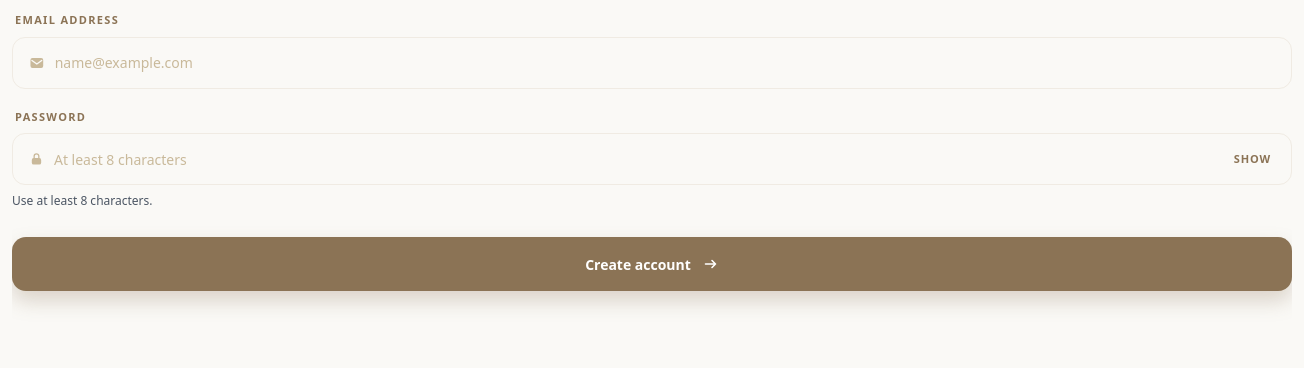
Test case: SignupForm › asks the user to confirm their email when no session is returned
Type "ada@example.com" into the field labelled "EMAIL ADDRESS".
click(665, 62); type("ada@example.com")  # box [55, 38, 1275, 88]
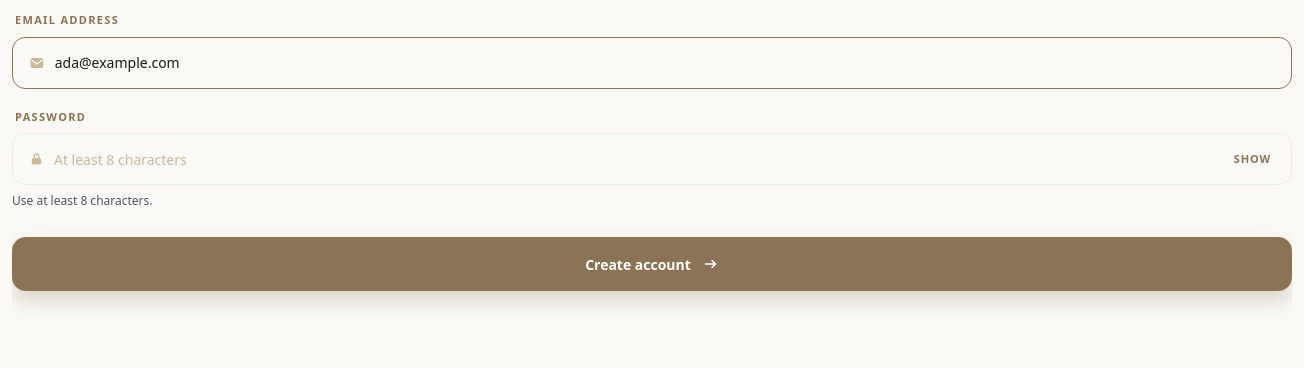
Type "password123" into the password field labelled "PASSWORD".
click(637, 159); type("password123")  # box [54, 134, 1220, 184]
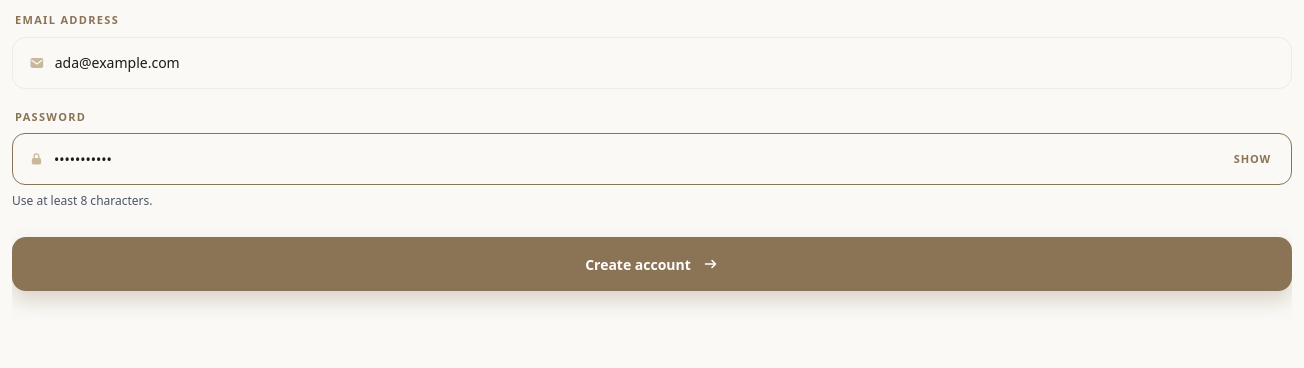
Click the button "Create account".
click(652, 264)  # box [12, 237, 1292, 291]
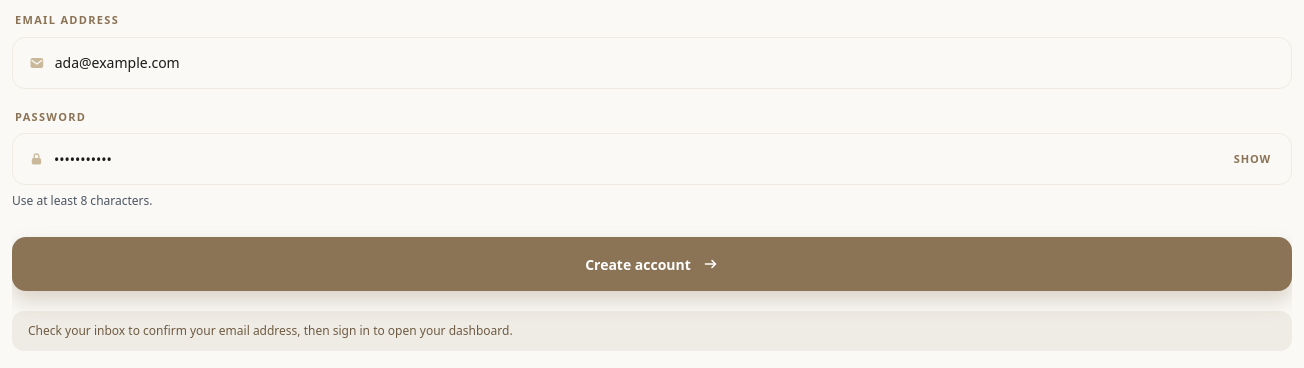
Result: the message shows "confirm your email address" at [28, 322, 513, 339]
